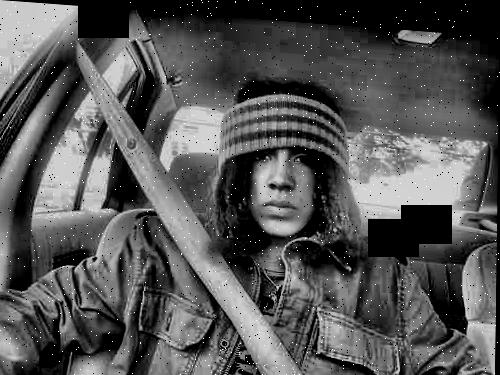seatbelt: (67, 35, 328, 375)
